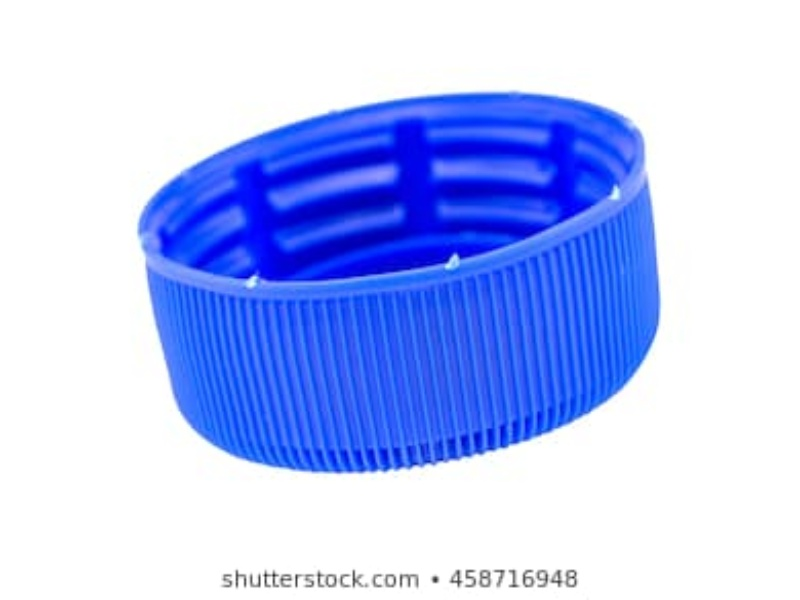bottle-cap: (134, 87, 666, 477)
